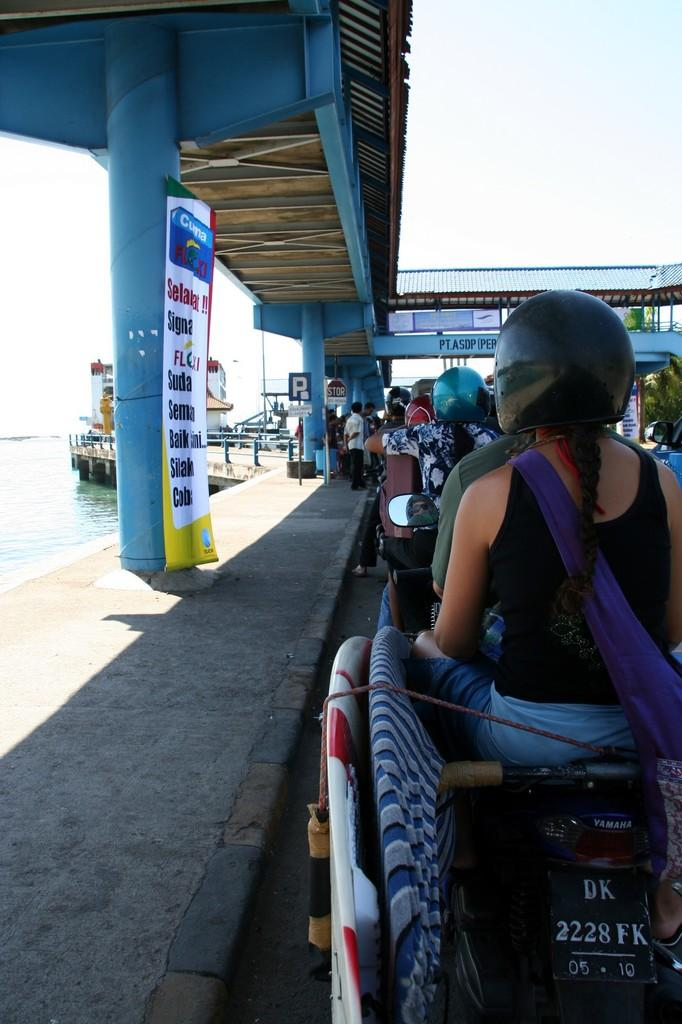helmet: (493, 289, 636, 439), (430, 366, 492, 426), (404, 394, 447, 439), (384, 386, 415, 418)
nohelmet: (364, 401, 376, 417), (350, 401, 363, 415), (328, 414, 339, 427)
